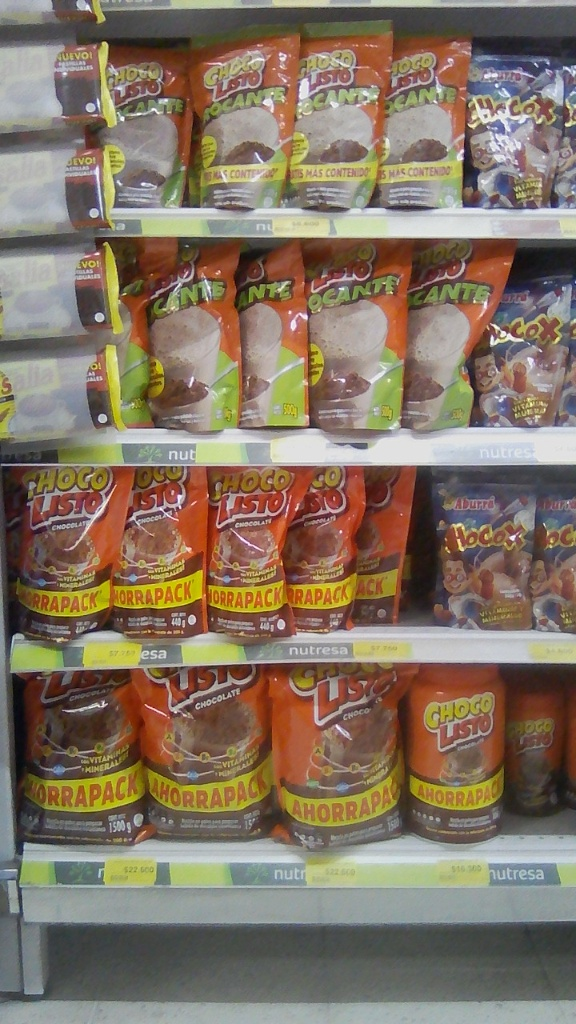COL0170102DYP25000: (99, 46, 199, 210)
COL0170102DYP50000: (148, 242, 246, 435)
COL0170103DYP1,500: (12, 663, 143, 847)
COL0170103DYP44000: (16, 465, 123, 639)
COL0170103TRR00100: (406, 664, 506, 840)
COL0170103TRR30000: (510, 670, 568, 819)
